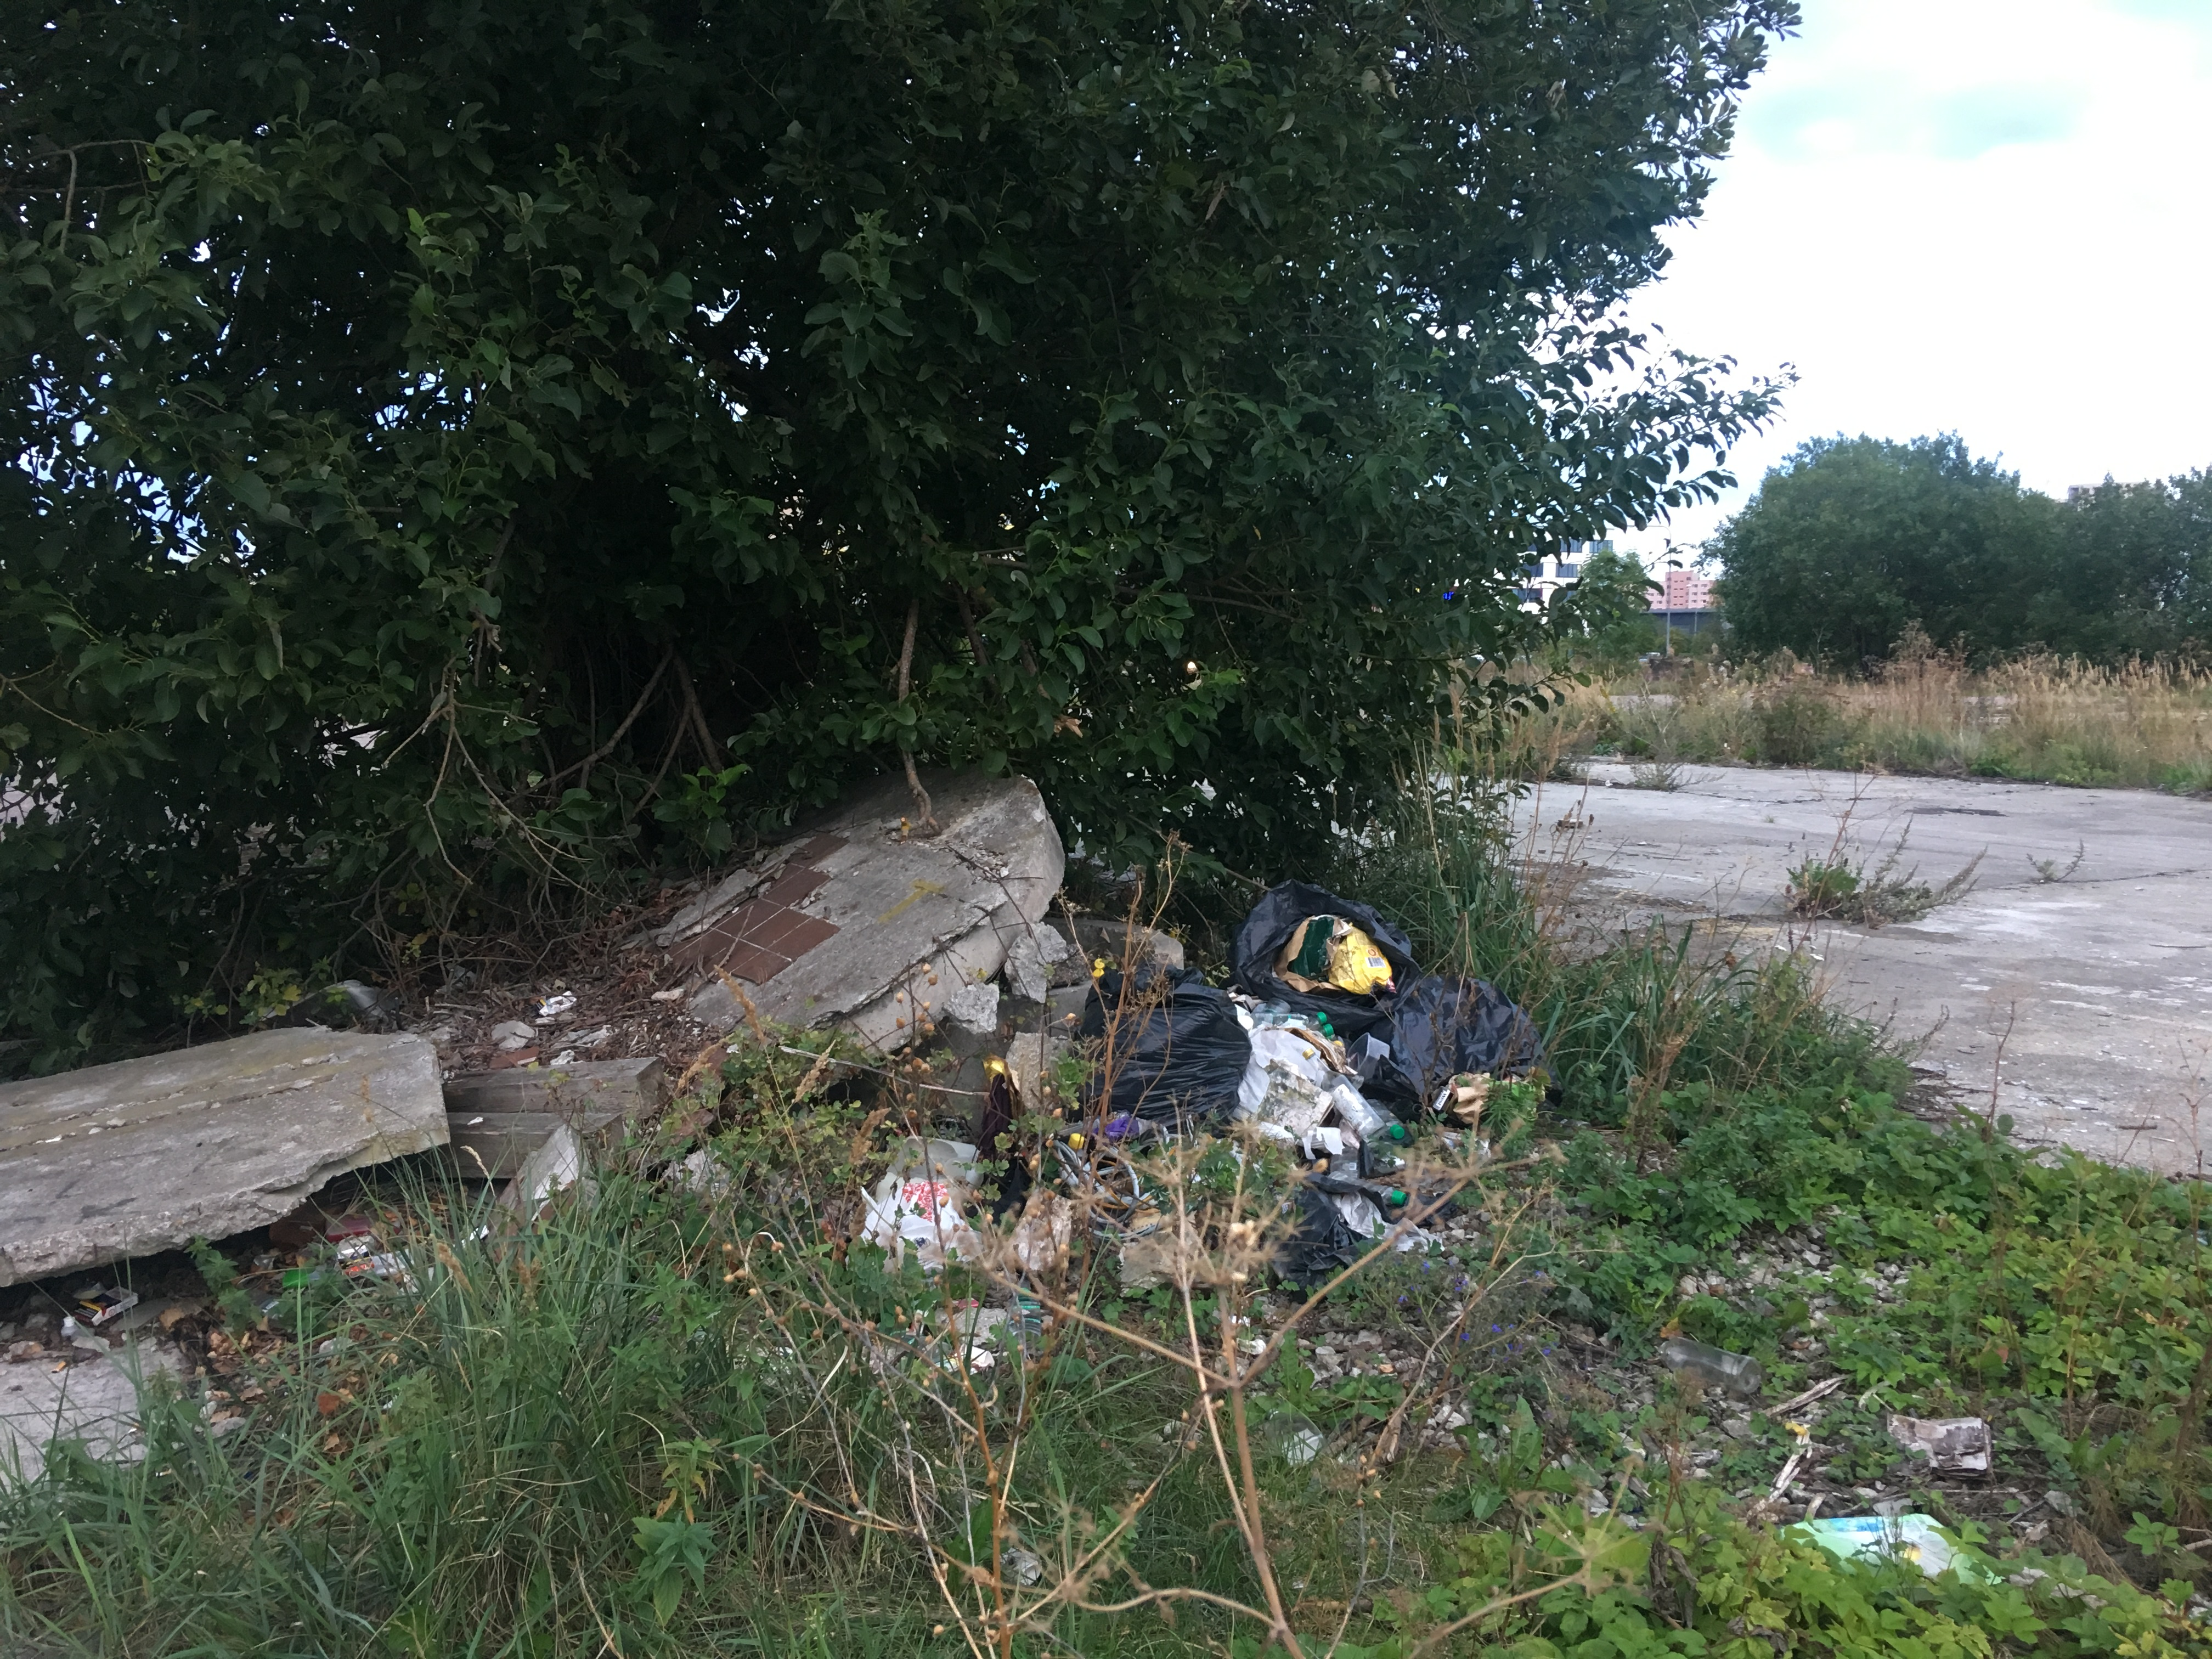trash: (773, 864, 1536, 1387), (1773, 1385, 2012, 1601)
